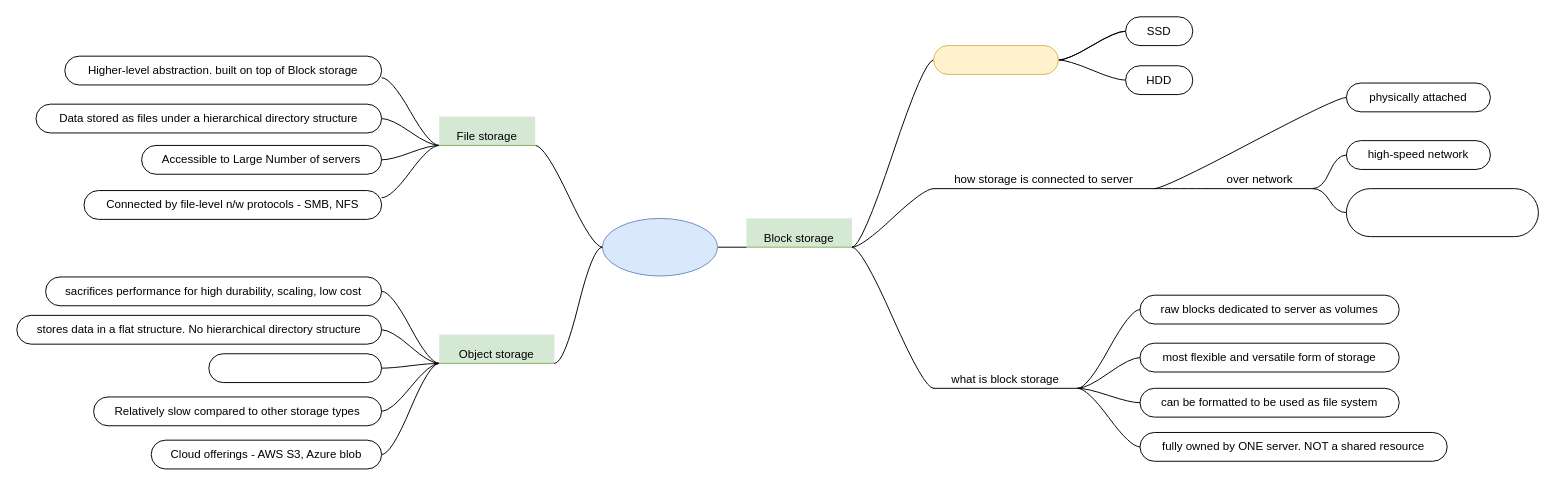
The diagram is 1555 pixels wide and 486 high, and some of its shapes have lost their labels. Each missing label, with the box of its shape:
connectivity protocols - Fibre Channel (FC) and iSCSI: (1345, 188, 1538, 237)
Restful API to access data: (208, 353, 382, 383)
storage devices: (933, 45, 1058, 74)
Storage Systems: (601, 217, 718, 276)
